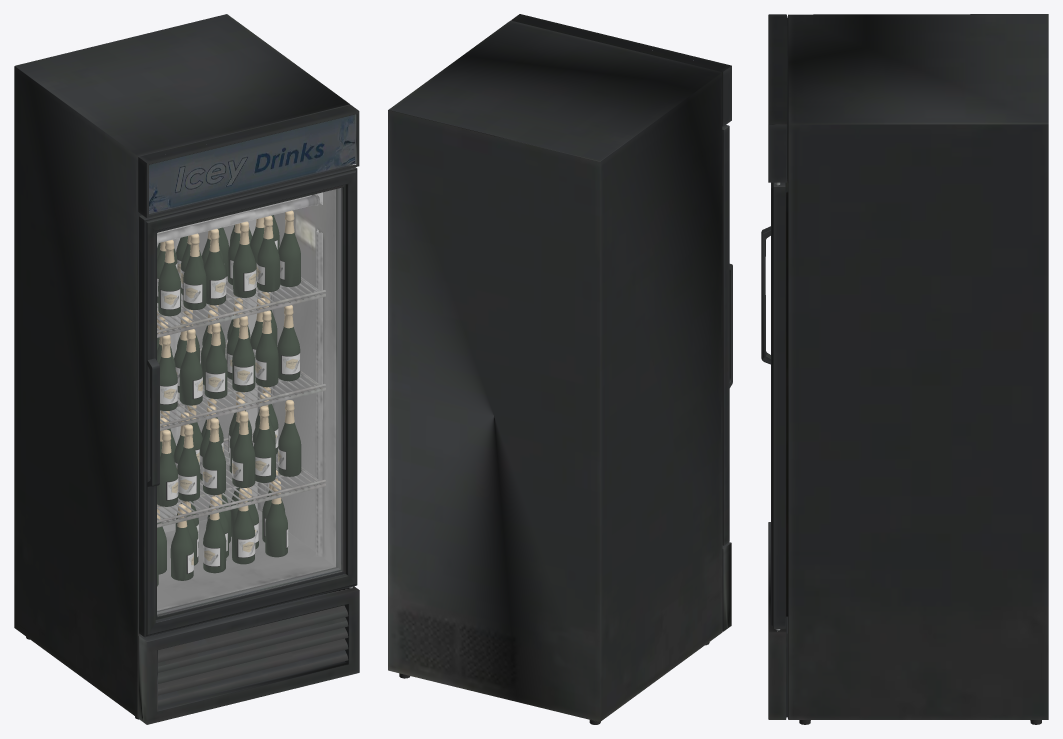
Rendered from CommercialRefrigerator.glb.
3 renders of one model, left to right at view 1: azimuth 30°, elevation 25°; view 2: azimuth 150°, elevation 25°; view 3: azimuth 270°, elevation 25°, orthographic. The views are drawn at different scales.
Parts seen in each view (by area): view 1: FridgeCase, FridgeGlass, FridgeInterior, ChampagneBottles, FridgeDoor, FridgeDoorInner; view 2: FridgeCase, FridgeDoor; view 3: FridgeCase, FridgeDoor.
Boxes of the visible parts, x1,y1,x2,y2 form: FridgeCase: (14,14,359,724); FridgeGlass: (157,188,340,613); FridgeInterior: (149,114,356,610); ChampagneBottles: (157,210,301,586); FridgeDoor: (139,165,357,637); FridgeDoorInner: (157,187,342,615); FridgeCase: (388,14,731,724); FridgeDoor: (722,125,732,545); FridgeCase: (768,14,1048,724); FridgeDoor: (761,179,788,628).
Size of the model in its own units: 0.8544 by 2.18 by 0.9422.
6 materials, 3 textured.
